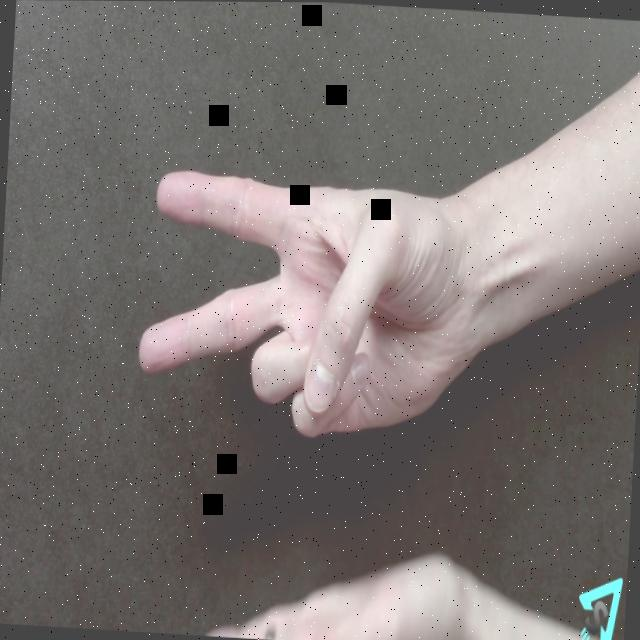Scissors: (138, 180, 488, 458)
